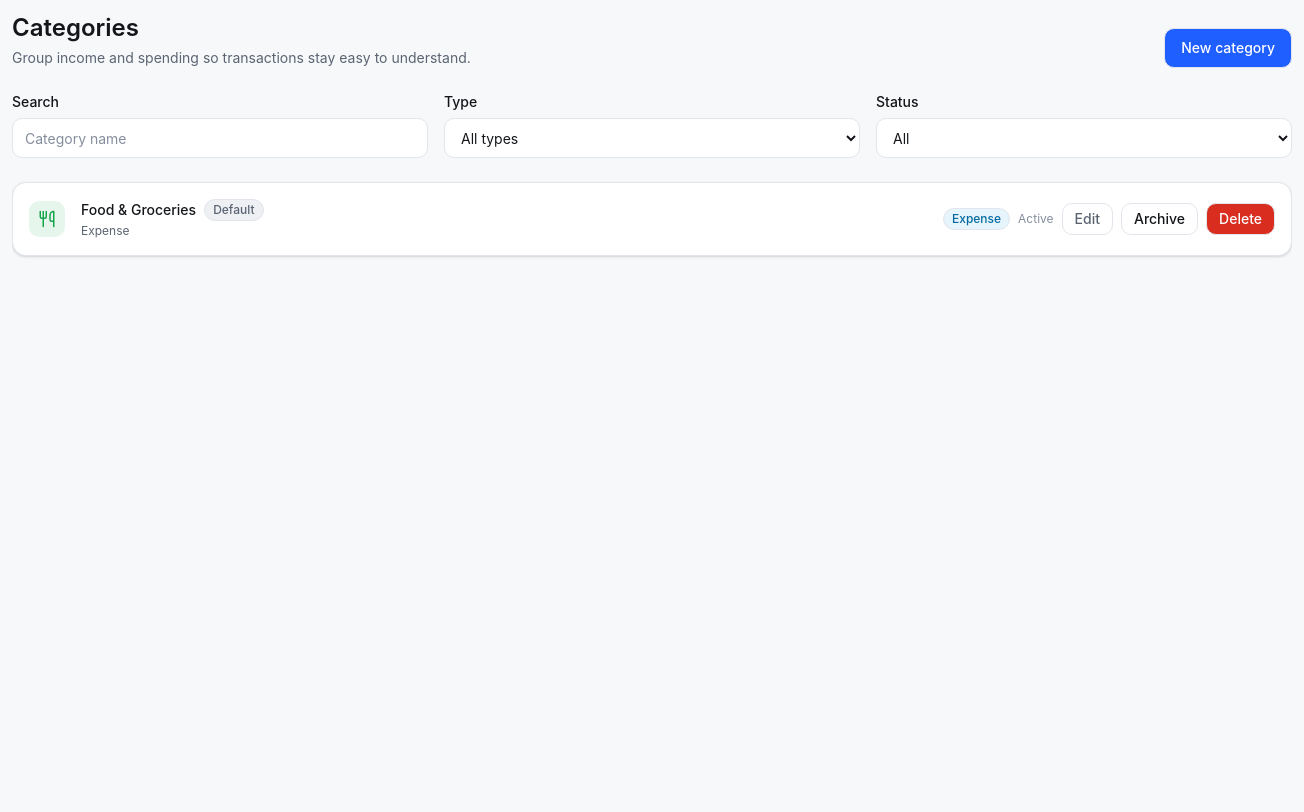
Test: CategoriesPage › archives an active category
Expected: the text "Food & Groceries" is shown, [81,201,196,218]
Click the button "Archive". click: (1160, 219)
box: [1121,203,1198,235]
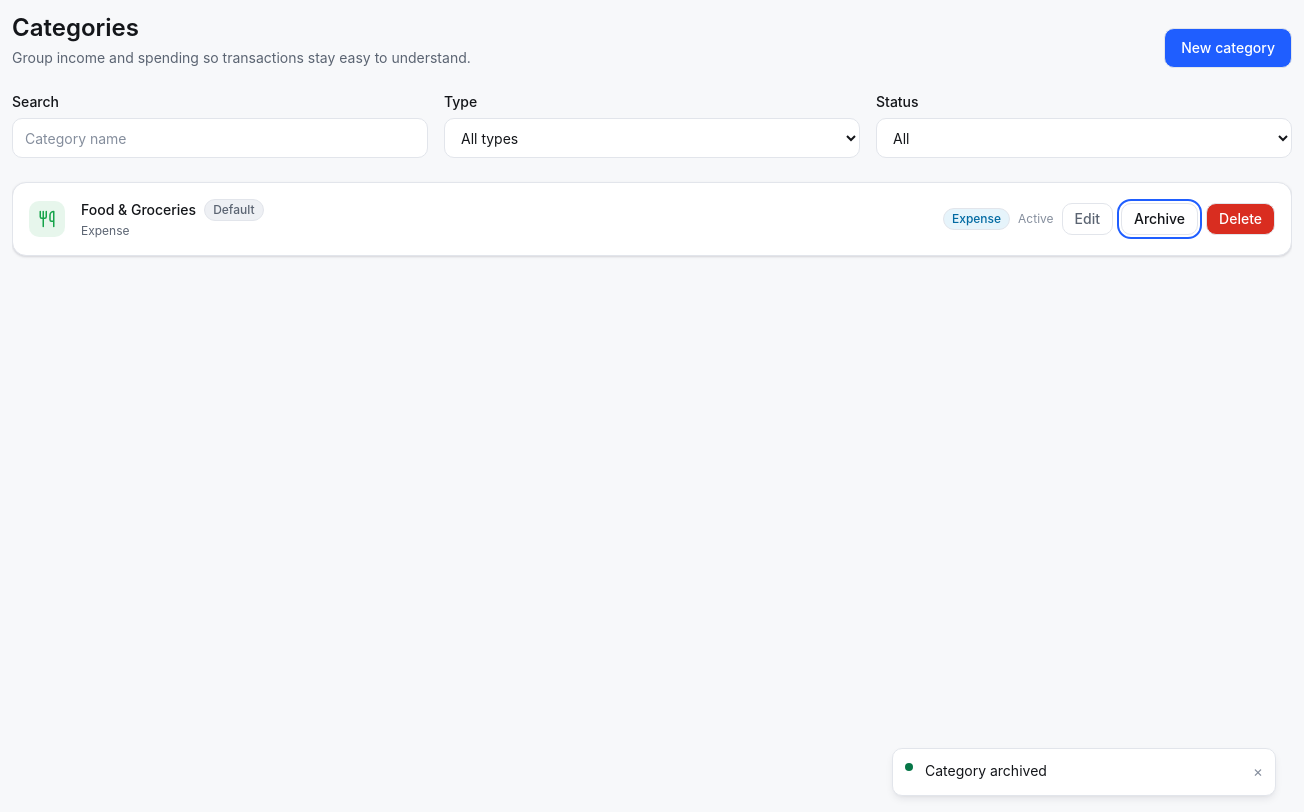
Expected: the text "Category archived" is shown, [925,762,1047,778]
